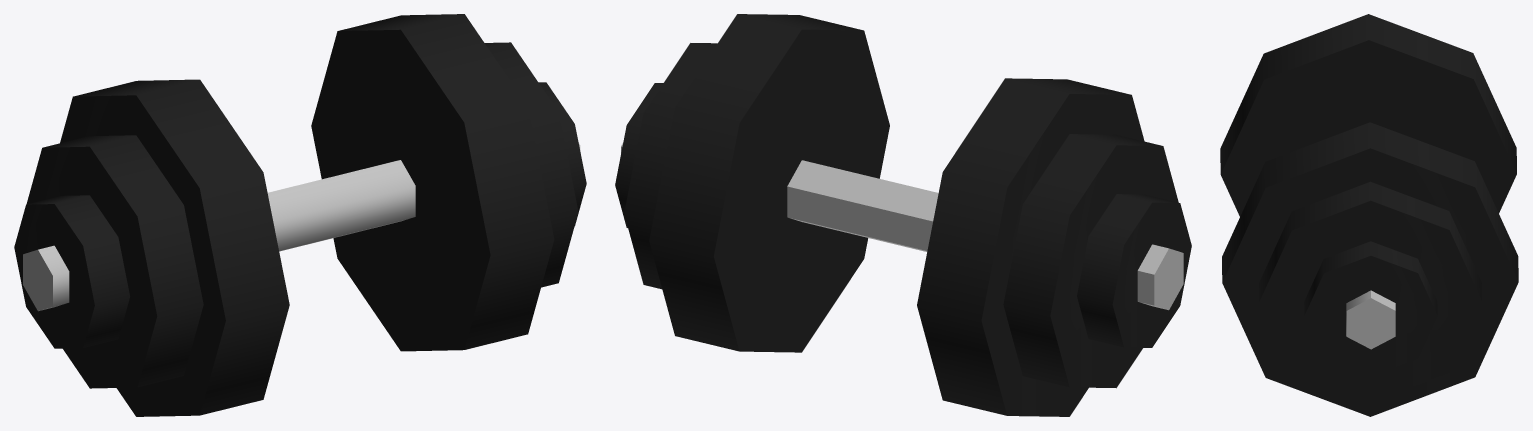
Rendered from Pesa1.obj.
3 renders of one model, left to right at view 1: azimuth 30°, elevation 25°; view 2: azimuth 150°, elevation 25°; view 3: azimuth 270°, elevation 25°, orthographic. The views are drawn at different scales.
Parts seen in each view (by area): view 1: dumbbell_002; view 2: dumbbell_002; view 3: dumbbell_002.
Boxes of the visible parts, left/top/right/bottom form: dumbbell_002: left=14, top=14, right=586, bottom=416; dumbbell_002: left=615, top=14, right=1191, bottom=416; dumbbell_002: left=1220, top=14, right=1518, bottom=416.
Size of the model in its own units: 5.23 by 3.04 by 3.06.
Materials: 1 (1 with a texture image).
